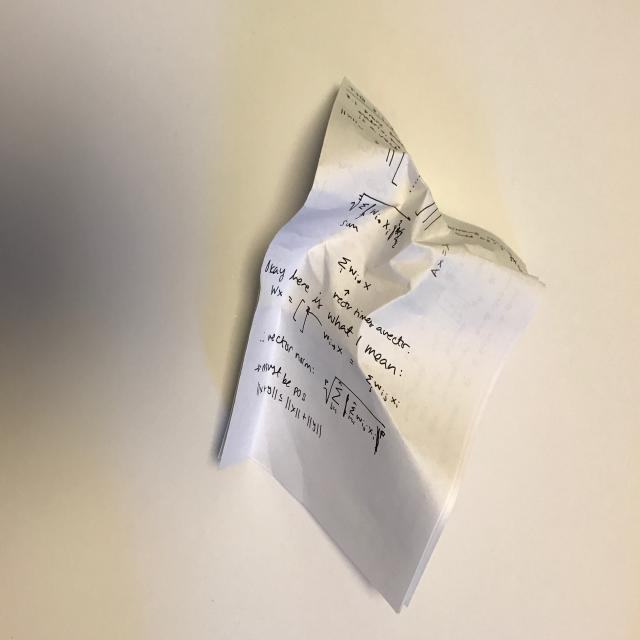paper: (199, 57, 562, 626)
